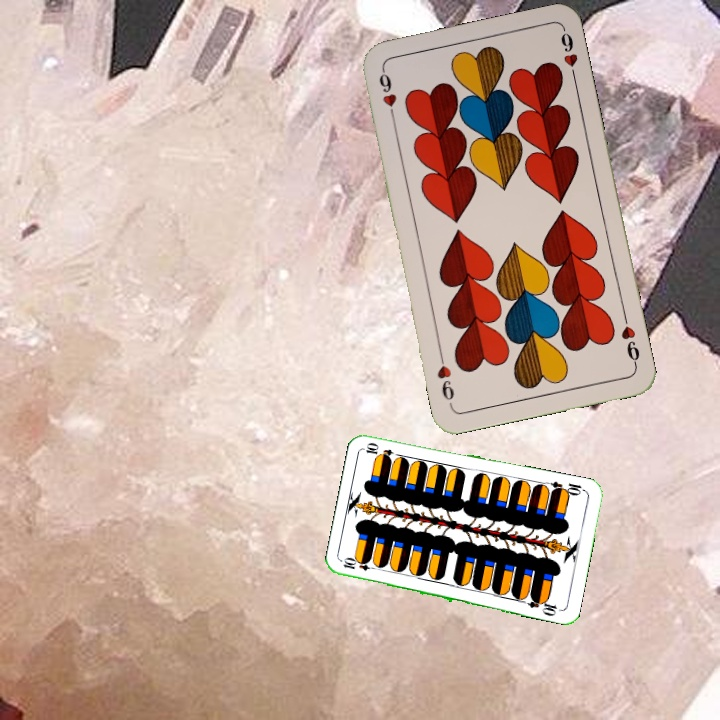E10: (547, 477, 588, 498), (339, 556, 380, 573)
H9: (617, 311, 642, 369), (375, 65, 399, 124)
